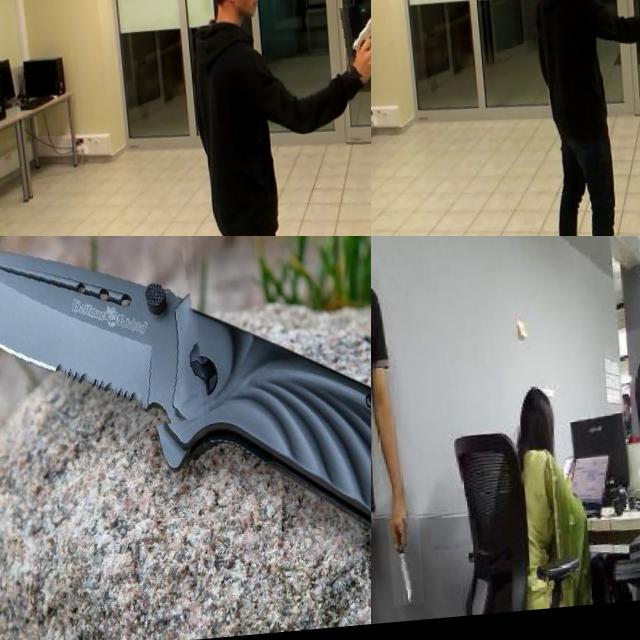-: (0, 236, 198, 464), (380, 522, 416, 612)
gun-knife-thesis - v11 Yolov5 augmented: (335, 8, 371, 85)
